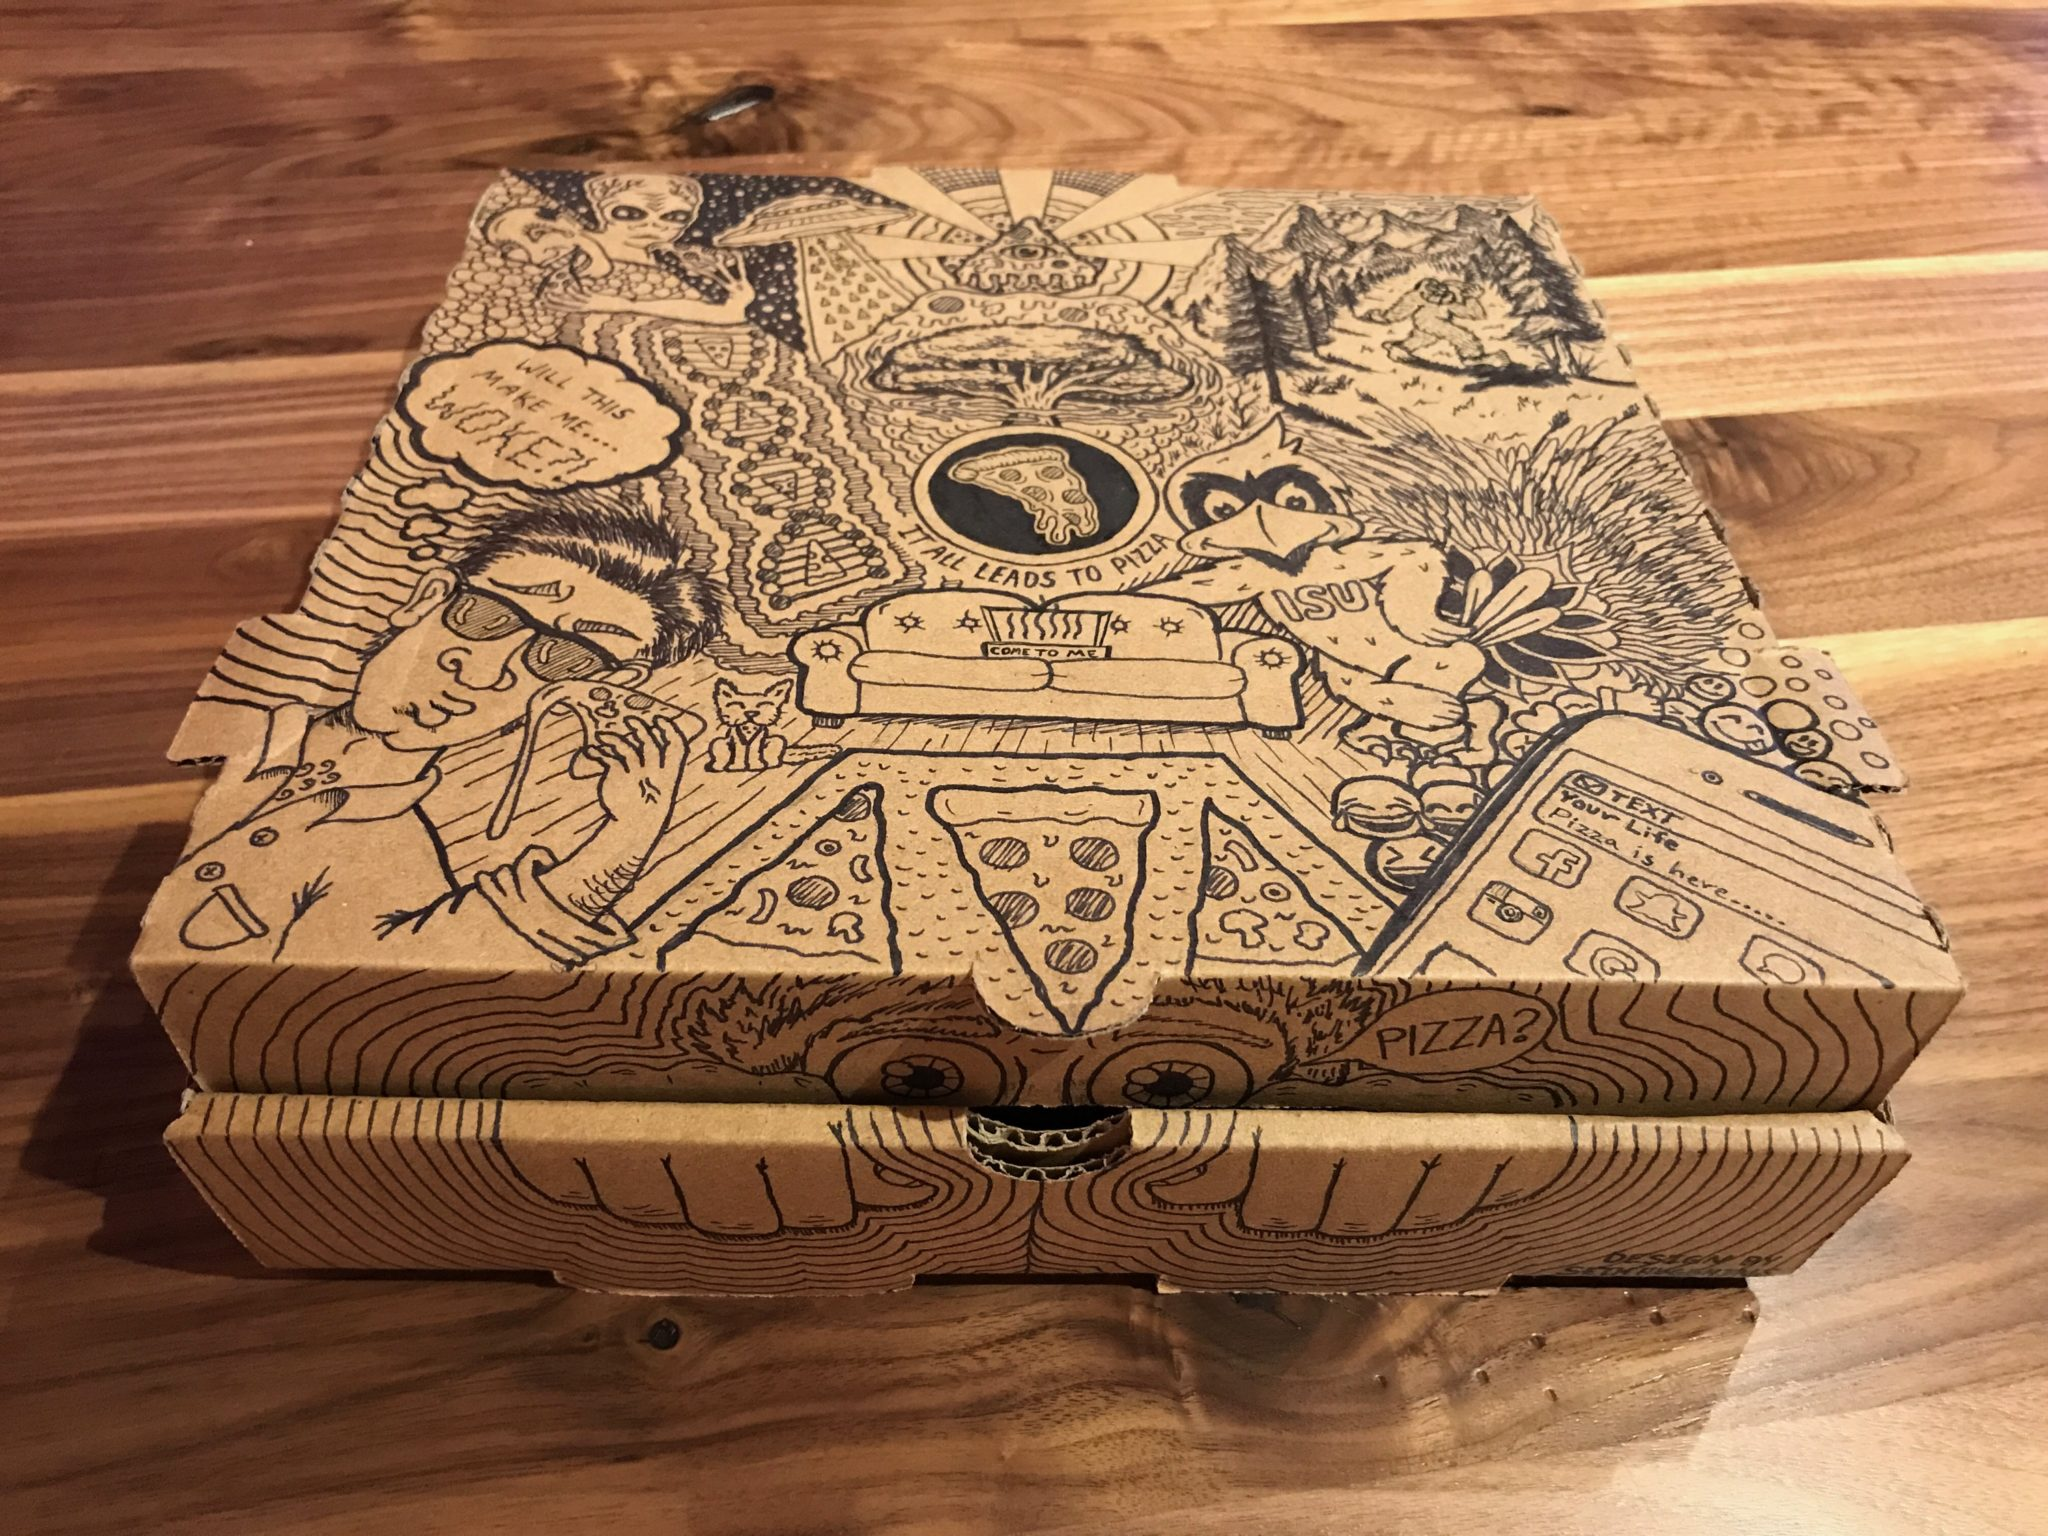Rec_Paper: (126, 123, 1956, 1309)
